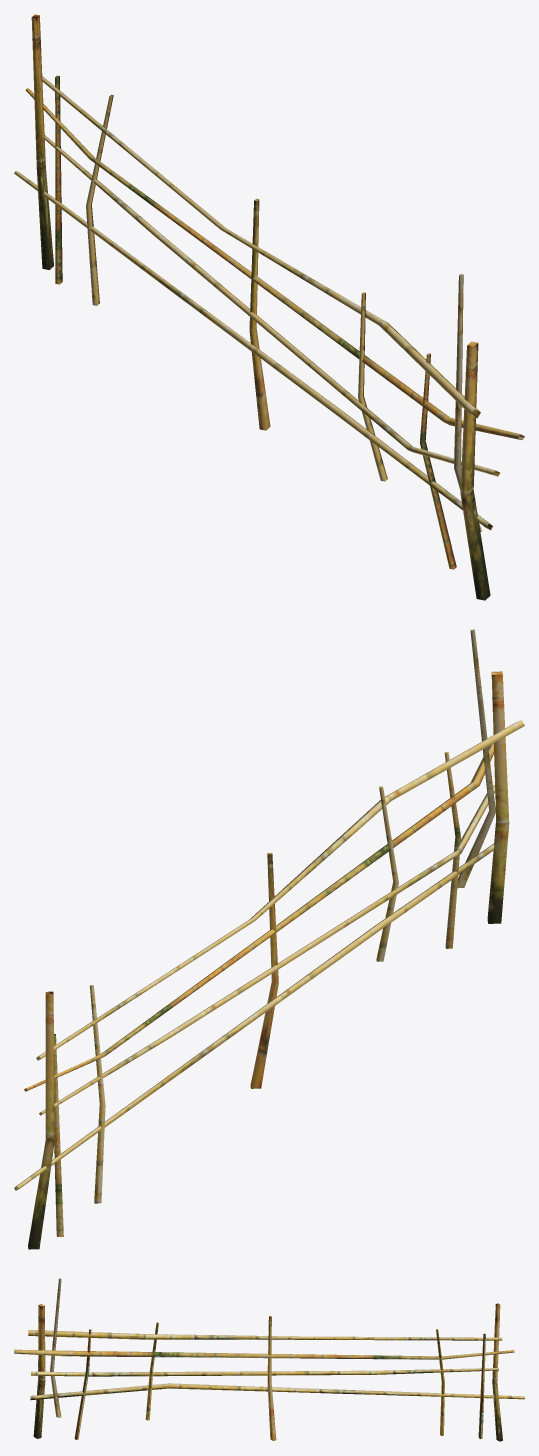
The model's file is bambooFence02.fbx.
3 views of the same model, one above another, from view 1: azimuth 30°, elevation 25°; view 2: azimuth 150°, elevation 25°; view 3: azimuth 270°, elevation 25° (orthographic). The views are drawn at different scales.
Visible parts, largest first — view 1: fence2; view 2: fence2; view 3: fence2.
Part boxes in pixels (left/top/right/bottom): fence2: left=14, top=14, right=524, bottom=600; fence2: left=14, top=629, right=524, bottom=1249; fence2: left=14, top=1278, right=524, bottom=1441.
Bounding box in the file's own units: 0.2682 × 1.94 × 5.66.
